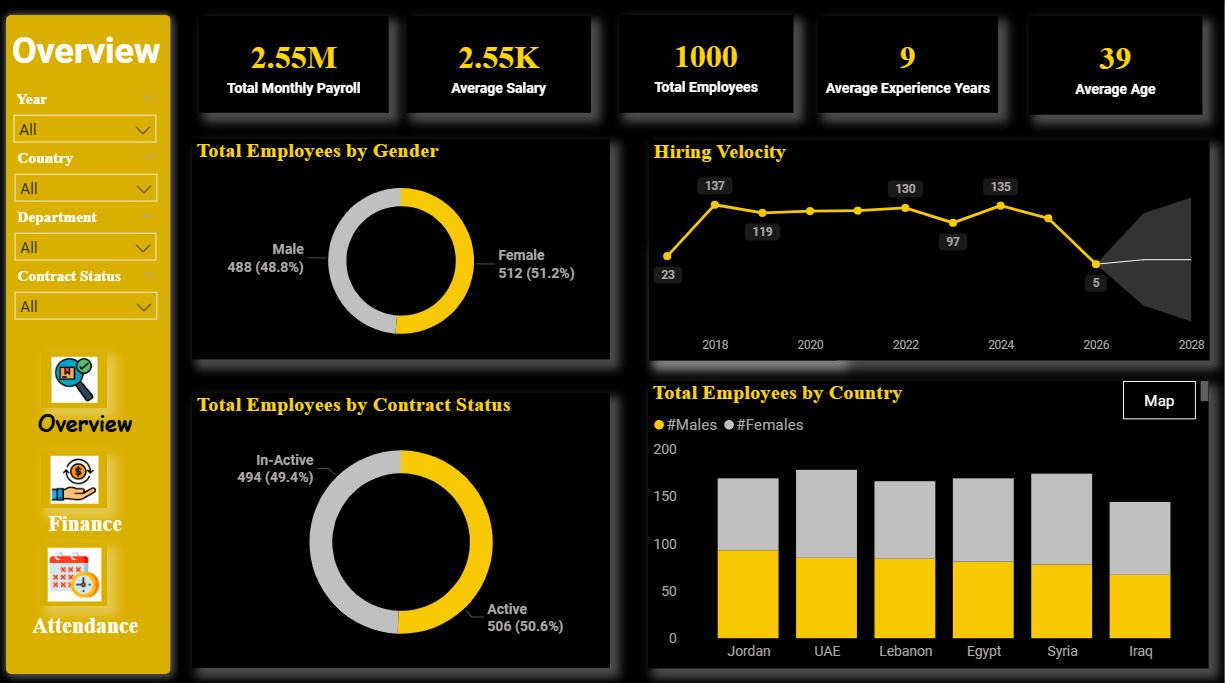

The dashboard page shown, as its layout file describes it:
{"tool":"powerbi","page":{"name":"Overview","canvas":[1280,720],"ordinal":0},"visuals":[{"type":"shape","box":[0,9.1,190.5,706.3],"z":0},{"type":"donutChart","fields":{"Category":["HR Data.Gender"],"Y":["#Measures.Total Employees"]},"box":[203.7,148.2,436.4,230.4],"z":1000},{"type":"card","fields":{"Values":["#Measures.Average Age"]},"box":[1076.5,19.7,180.6,103],"z":2000},{"type":"card","fields":{"Values":["Avg(HR Data.Experience_Years)"]},"box":[856.6,19.7,187.5,100.7],"z":3000},{"type":"donutChart","fields":{"Y":["#Measures.Total Employees"],"Category":["HR Data.Contract_Status"]},"box":[203.7,413.2,436.4,287.1],"z":4000},{"type":"card","fields":{"Values":["#Measures.Total Salary"]},"box":[210.7,19.7,197.9,100.7],"z":5000},{"type":"textbox","box":[10.3,29.7,179.4,60.6],"z":6000},{"type":"card","fields":{"Values":["#Measures.Total Active Employees"]},"box":[680.6,258.1,196.8,121.5],"z":7000},{"type":"lineChart","title":"Hiring Velocity","fields":{"Category":["HR Data.Join_Date.Variation.Date Hierarchy.Year","HR Data.Join_Date.Variation.Date Hierarchy.Month"],"Y":["#Measures.Total Employees"]},"box":[680.6,149.2,584.7,230.4],"z":8000},{"type":"image","box":[46.2,370.6,69.3,58.3],"z":9000},{"type":"image","box":[46.2,474,69.3,60.5],"z":10000},{"type":"card","fields":{"Values":["#Measures.Total Employees"]},"box":[649.4,18.5,181.7,101.9],"z":11000},{"type":"image","box":[46.2,569.6,69.3,66],"z":12000},{"type":"card","fields":{"Values":["#Measures.Average Salary"]},"box":[427.1,19.7,193.3,100.7],"z":13000},{"type":"slicer","fields":{"Values":["HR Data.Join_Date.Variation.Date Hierarchy.Year"]},"box":[7.7,92.4,169.3,61.6],"z":14000},{"type":"slicer","fields":{"Values":["HR Data.Country"]},"box":[8.8,154,169.3,61.6],"z":15000},{"type":"pageNavigator","box":[19.8,391.5,144.1,318.9],"z":16000},{"type":"slicer","fields":{"Values":["HR Data.Contract Status"]},"box":[8.8,277.1,169.3,71.5],"z":17000},{"type":"columnChart","title":"Total Employees by Country ","fields":{"Category":["HR Data.Country"],"Y":["#Measures.#Males","#Measures.#Females"]},"box":[679.2,400.5,584.9,300.4],"z":19000},{"type":"bookmarkNavigator","box":[1175,400.7,89.7,43.8],"z":20000},{"type":"slicer","fields":{"Values":["HR Data.Department"]},"box":[8.8,215.5,168.2,61.6],"z":21000}]}

Visuals, with their boxes in screenshot pixels (x1, y1, x2, y2), scaled from the page's 1280x720 canvas onto the 1225x683 screenshot:
shape: <bbox>0, 9, 182, 679</bbox>
donutChart - HR Data.Gender x #Measures.Total Employees: <bbox>195, 141, 613, 359</bbox>
card - #Measures.Average Age: <bbox>1030, 19, 1203, 116</bbox>
card - Avg(HR Data.Experience_Years): <bbox>820, 19, 999, 114</bbox>
donutChart - #Measures.Total Employees x HR Data.Contract_Status: <bbox>195, 392, 613, 664</bbox>
card - #Measures.Total Salary: <bbox>202, 19, 391, 114</bbox>
textbox: <bbox>10, 28, 182, 86</bbox>
card - #Measures.Total Active Employees: <bbox>651, 245, 840, 360</bbox>
"Hiring Velocity" lineChart: <bbox>651, 142, 1211, 360</bbox>
image: <bbox>44, 352, 111, 407</bbox>
image: <bbox>44, 450, 111, 507</bbox>
card - #Measures.Total Employees: <bbox>621, 18, 795, 114</bbox>
image: <bbox>44, 540, 111, 603</bbox>
card - #Measures.Average Salary: <bbox>409, 19, 594, 114</bbox>
slicer - HR Data.Join_Date.Variation.Date Hierarchy.Year: <bbox>7, 88, 169, 146</bbox>
slicer - HR Data.Country: <bbox>8, 146, 170, 205</bbox>
pageNavigator: <bbox>19, 371, 157, 674</bbox>
slicer - HR Data.Contract Status: <bbox>8, 263, 170, 331</bbox>
"Total Employees by Country " columnChart: <bbox>650, 380, 1210, 665</bbox>
bookmarkNavigator: <bbox>1125, 380, 1210, 422</bbox>
slicer - HR Data.Department: <bbox>8, 204, 169, 263</bbox>
